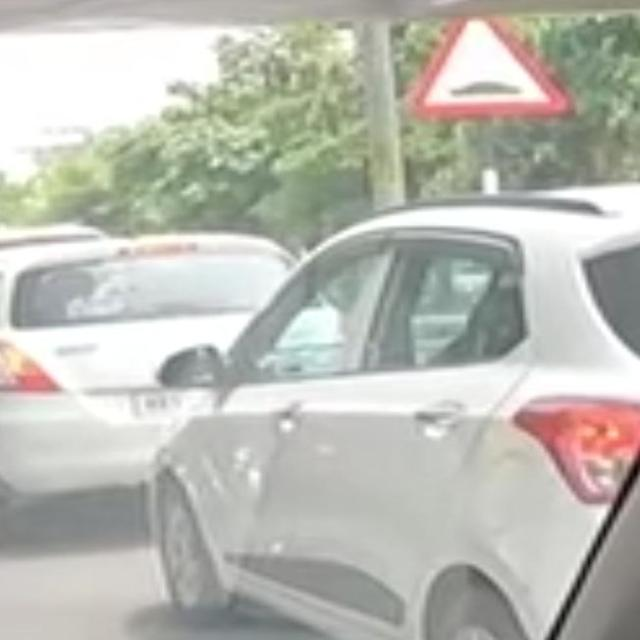Bump: (408, 24, 585, 121)
